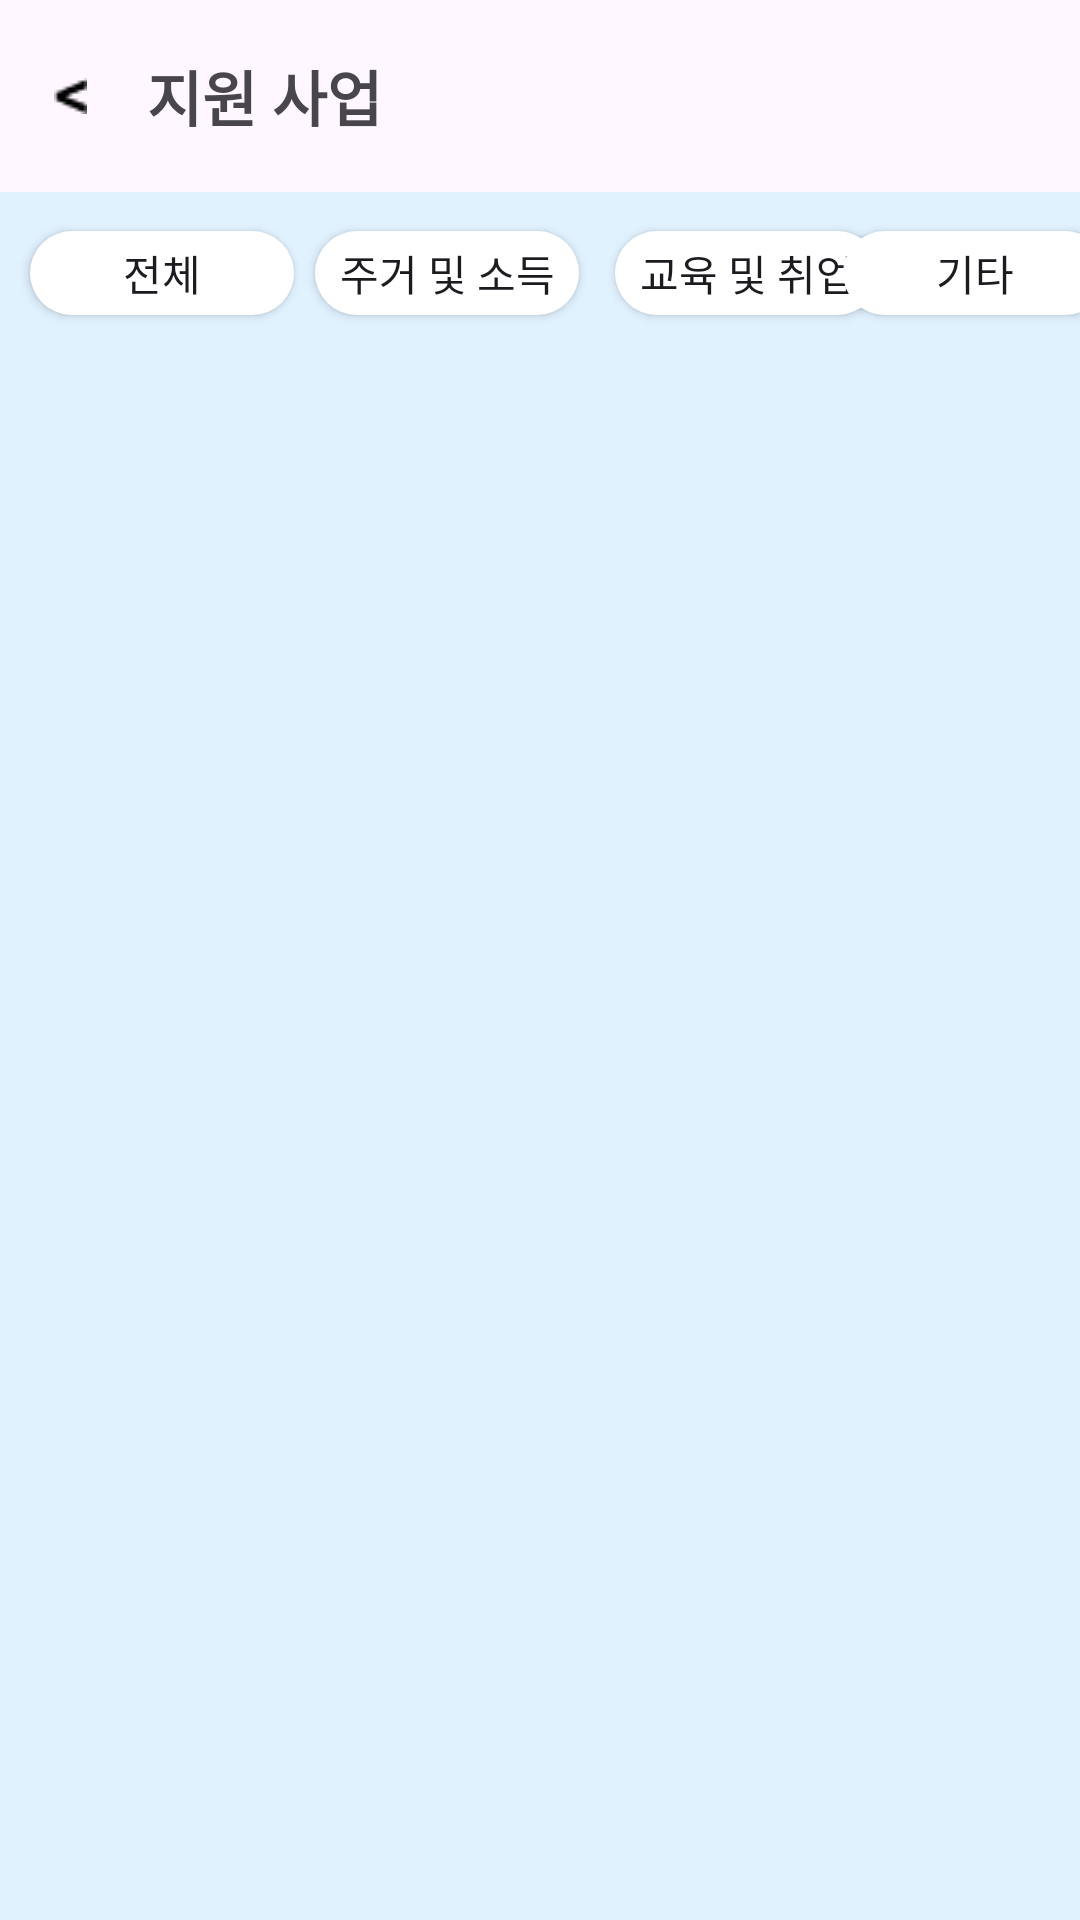

Icons on this 1080×1920 Android screen, each with its box as (x1, y1, x2, y2):
backbutton: (54, 78, 87, 114)
